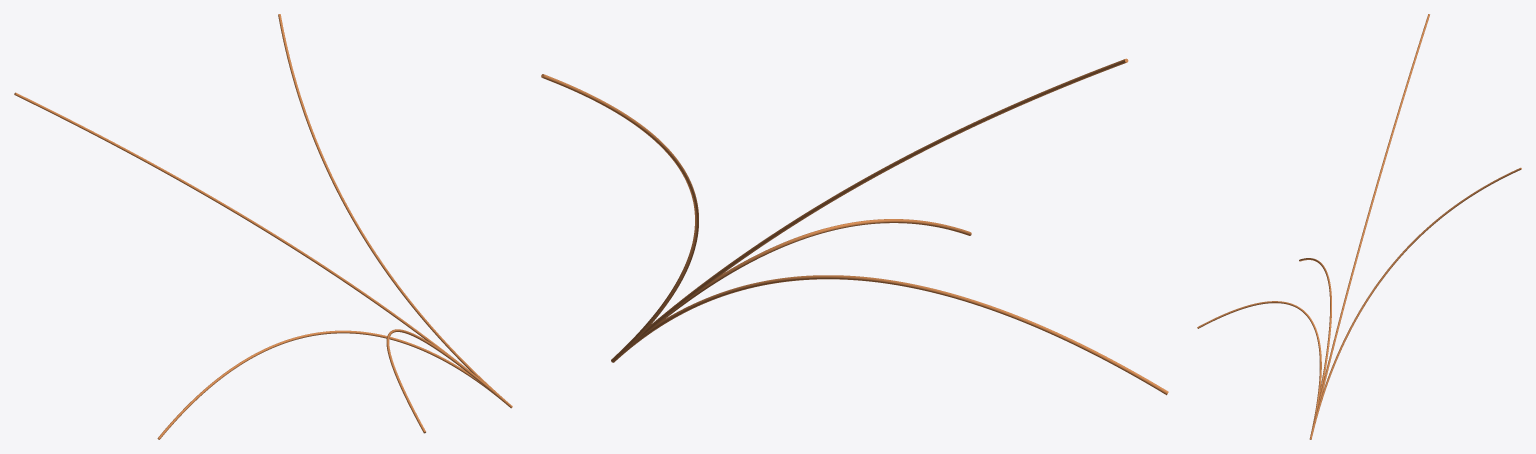
Rendered from UmbrellaMomentsSTRINGS.gltf.
3 views of the same model, side by side, from view 1: azimuth 30°, elevation 25°; view 2: azimuth 150°, elevation 25°; view 3: azimuth 270°, elevation 25° (orthographic). The views are drawn at different scales.
Parts seen in each view (by area): view 1: UmbrellaMomentsSTRINGS; view 2: UmbrellaMomentsSTRINGS; view 3: UmbrellaMomentsSTRINGS.
Boxes of the visible parts, x1,y1,x2,y2 form: UmbrellaMomentsSTRINGS: (14,14,512,439); UmbrellaMomentsSTRINGS: (541,58,1168,395); UmbrellaMomentsSTRINGS: (1197,14,1521,439).
Size of the model in its own units: 17.64 by 14.45 by 15.63.
